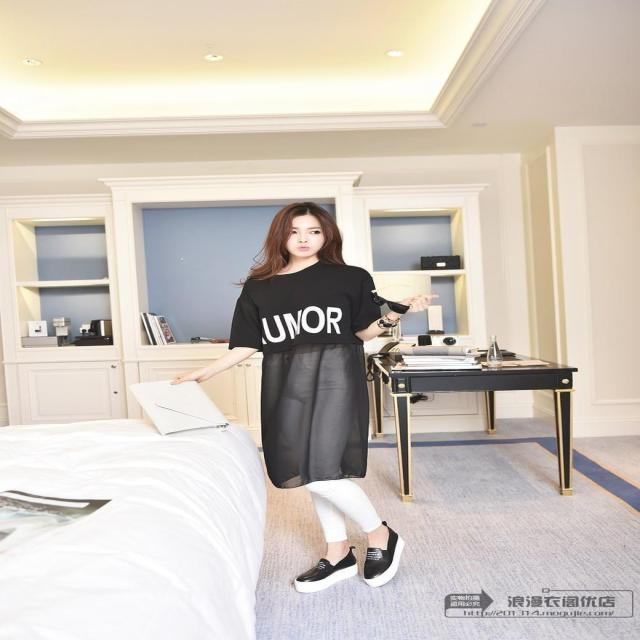short-sleeve-top: (198, 257, 422, 505)
